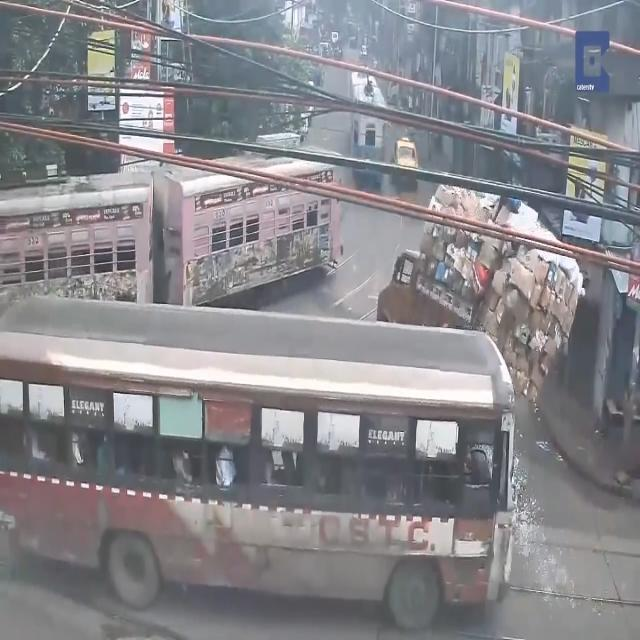accident: (361, 183, 566, 446)
